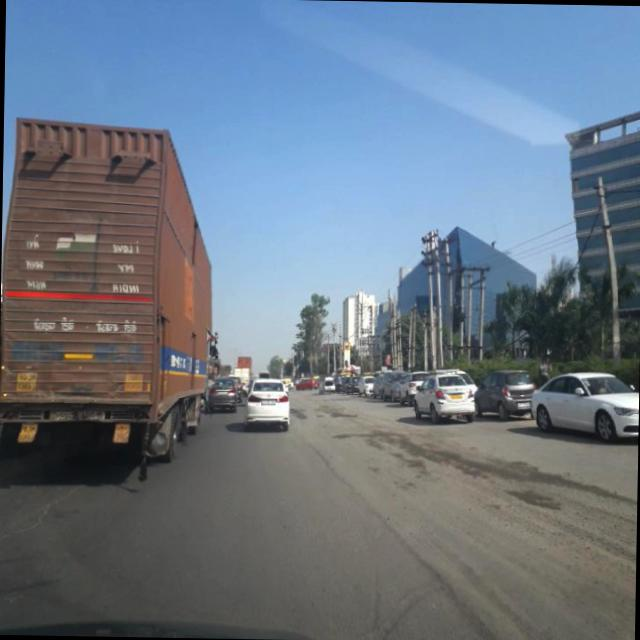pothole: (300, 440, 388, 525), (0, 470, 84, 555)
